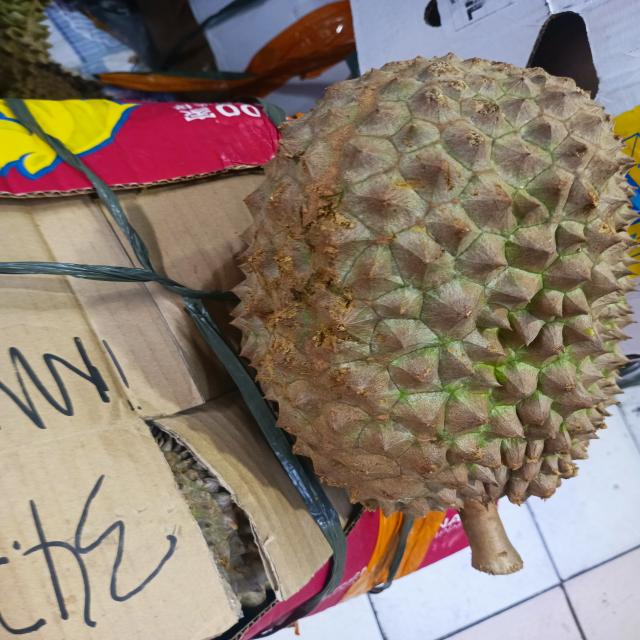mature: (250, 45, 598, 479)
